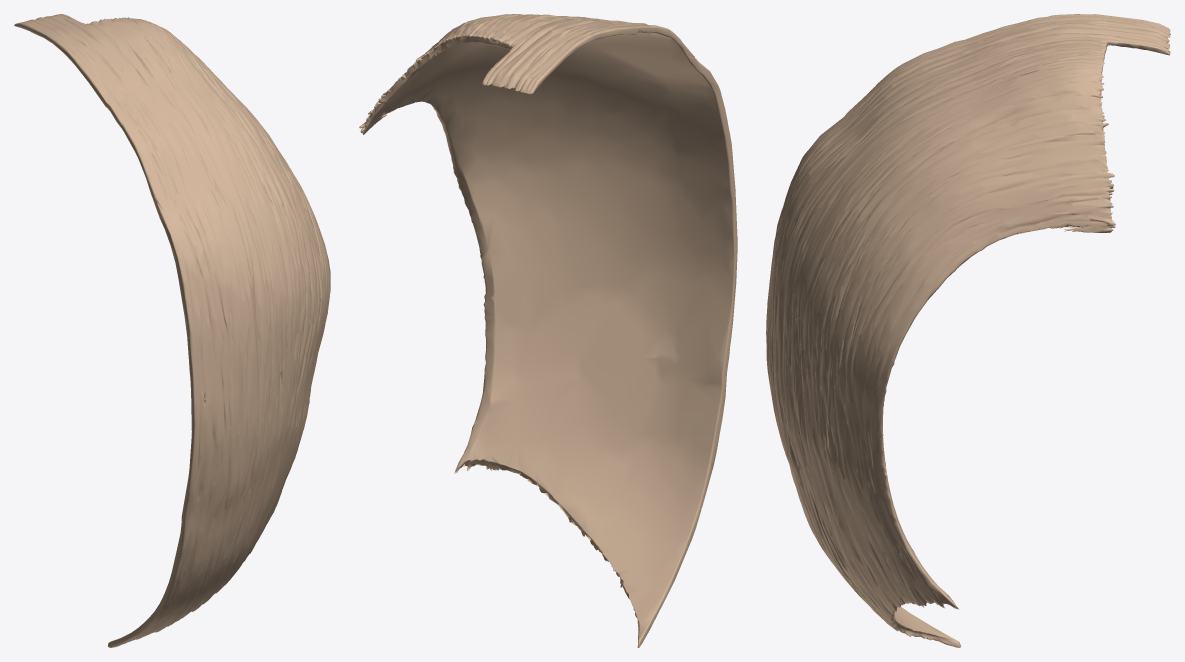
The picture shows the model from 3 angles, left to right: view 1: azimuth 30°, elevation 25°; view 2: azimuth 150°, elevation 25°; view 3: azimuth 270°, elevation 25°; orthographic projection. The views are drawn at different scales.
Parts seen in each view (by area): view 1: 左侧帽状腱膜; view 2: 左侧帽状腱膜; view 3: 左侧帽状腱膜.
Part boxes in pixels (x1,y1,x2,y2): 左侧帽状腱膜: (14, 14, 330, 647); 左侧帽状腱膜: (359, 14, 737, 647); 左侧帽状腱膜: (766, 14, 1170, 647).
Size of the model in its own units: 0.0985 by 0.2777 by 0.1607.
